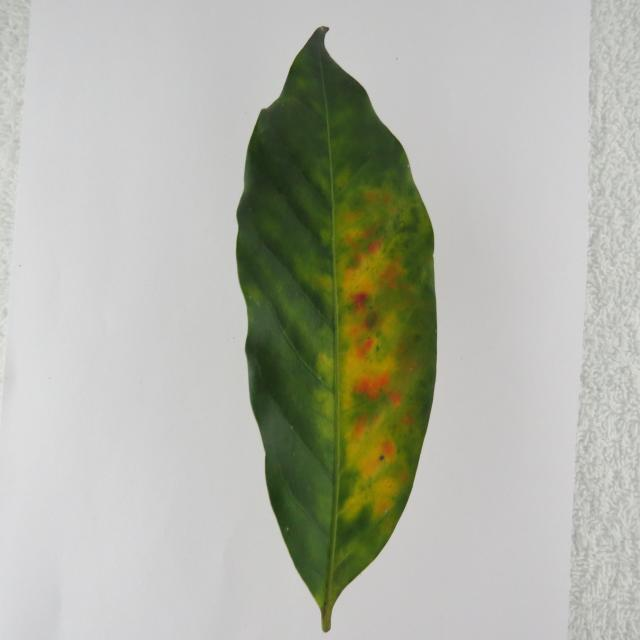DeficienciaNutricional-Fosforo: (236, 27, 436, 632)
